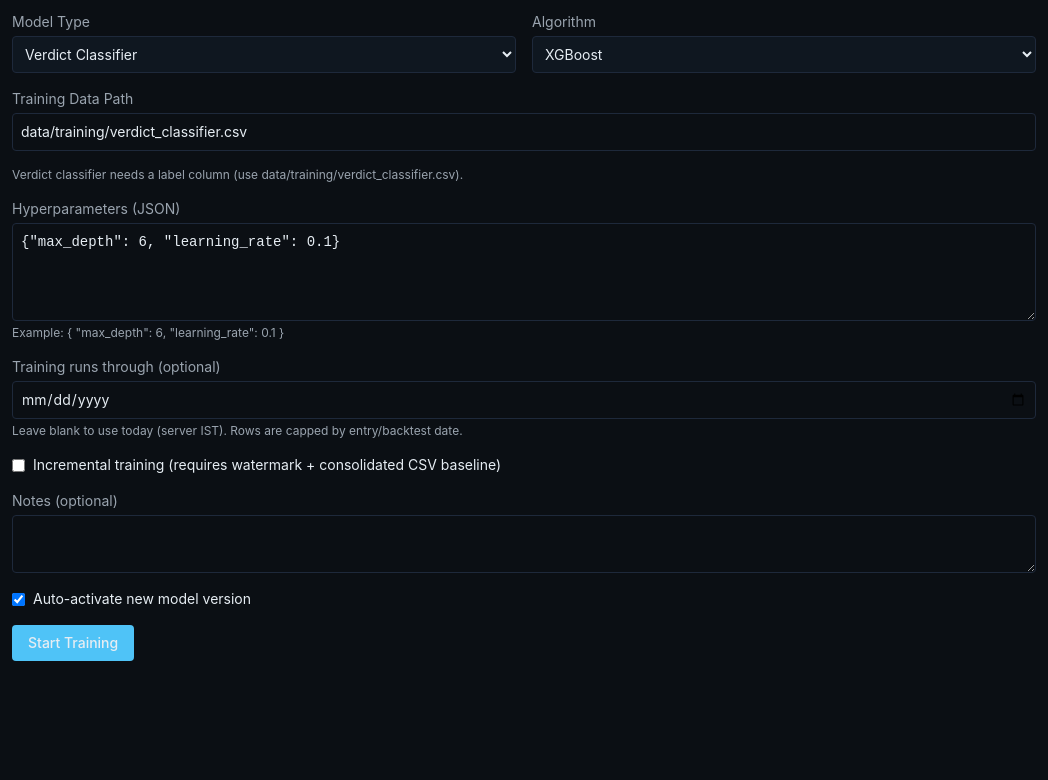
MLTrainingForm › shows validation error when training data path is empty
This screenshot has width=1048, height=780.
Clear the field with placeholder "data/training/verdict_classifier.csv". click: [524, 132]
box: [12,113,1036,151]
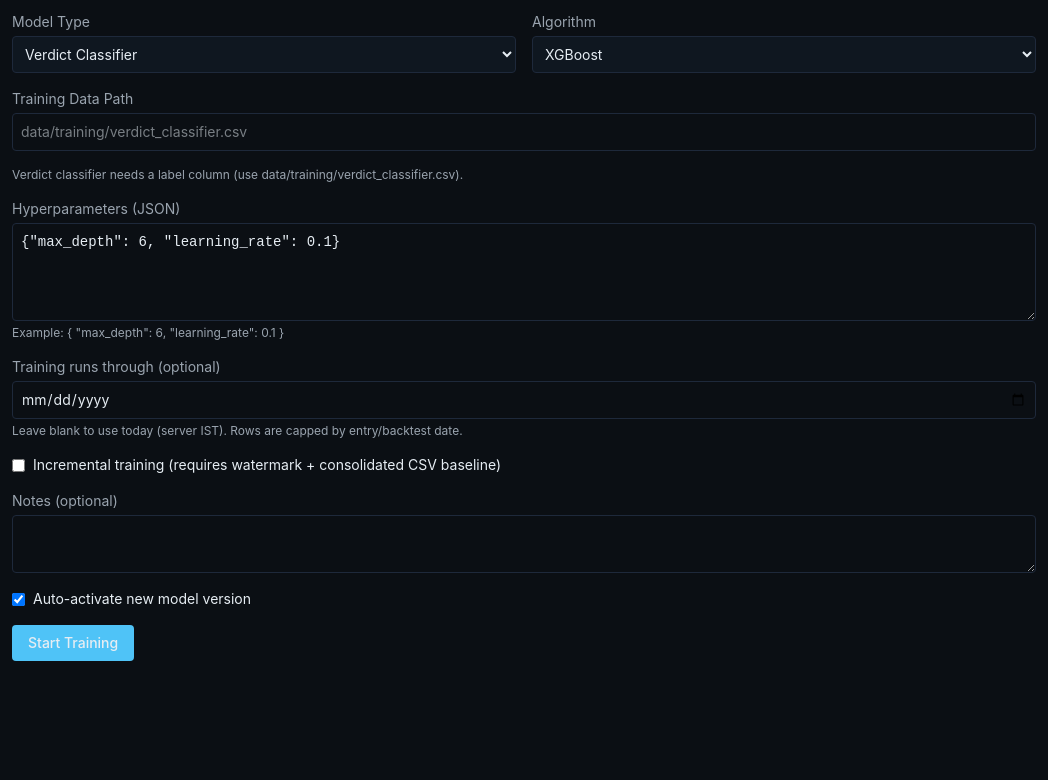
Submit the form named "ML Training Form"
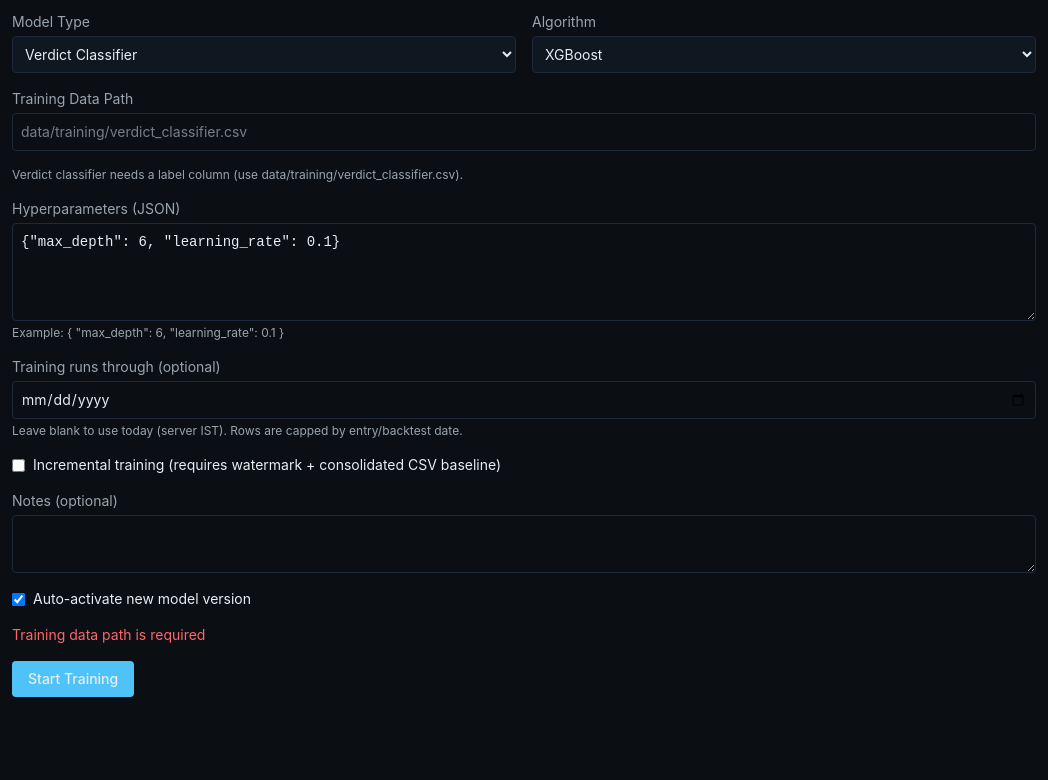
Expected: the text "Training data path is required" is shown, [12,626,205,643]
